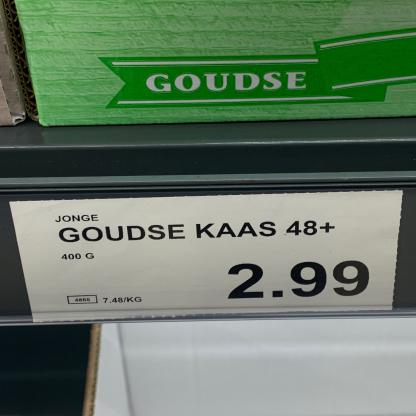prtg: (10, 191, 404, 324)
